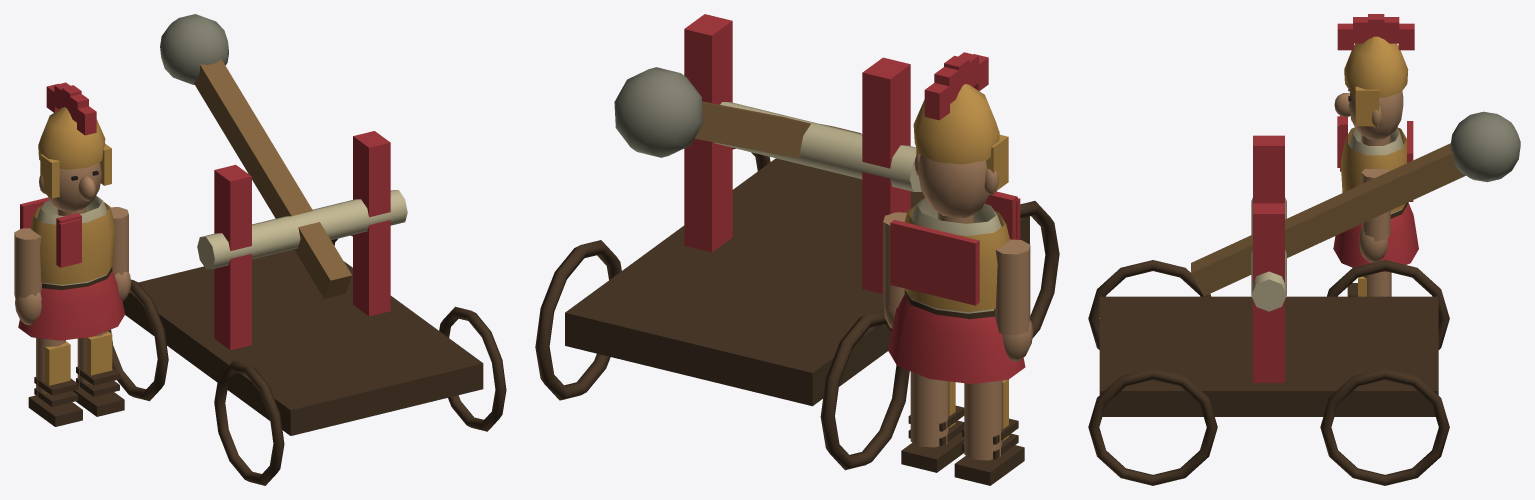
Rendered from bronze_catapult_team1.glb.
3 views of the same model, side by side, from view 1: azimuth 30°, elevation 25°; view 2: azimuth 150°, elevation 25°; view 3: azimuth 270°, elevation 25° (orthographic). The views are drawn at different scales.
Parts seen in each view (by area): view 1: part_11, part_10, part_8, part_1, part_9, part_0, part_2, part_4, part_6, part_3, part_5, part_7; view 2: part_11, part_8, part_10, part_0, part_1, part_4, part_6, part_2, part_9, part_3; view 3: part_11, part_10, part_8, part_0, part_1, part_9, part_3, part_6.
Boxes of the visible parts, bbox=[...] form: part_11: bbox=[108, 131, 506, 485]; part_10: bbox=[160, 14, 351, 298]; part_8: bbox=[18, 195, 125, 340]; part_1: bbox=[38, 107, 111, 198]; part_9: bbox=[30, 202, 115, 284]; part_0: bbox=[39, 82, 101, 211]; part_2: bbox=[14, 228, 42, 325]; part_4: bbox=[28, 338, 82, 426]; part_6: bbox=[73, 331, 124, 416]; part_3: bbox=[110, 207, 131, 300]; part_5: bbox=[44, 341, 70, 394]; part_7: bbox=[86, 331, 112, 384]; part_11: bbox=[535, 14, 1059, 470]; part_8: bbox=[888, 191, 1025, 383]; part_10: bbox=[614, 67, 861, 158]; part_0: bbox=[914, 52, 998, 218]; part_1: bbox=[913, 84, 1008, 192]; part_4: bbox=[954, 380, 1024, 485]; part_6: bbox=[901, 371, 964, 472]; part_2: bbox=[994, 239, 1033, 361]; part_9: bbox=[904, 206, 1009, 312]; part_3: bbox=[883, 212, 906, 328]; part_11: bbox=[1088, 135, 1449, 485]; part_10: bbox=[1191, 111, 1520, 296]; part_8: bbox=[1333, 115, 1418, 271]; part_0: bbox=[1334, 14, 1414, 139]; part_1: bbox=[1344, 36, 1408, 126]; part_9: bbox=[1340, 127, 1406, 212]; part_3: bbox=[1359, 168, 1390, 262]; part_6: bbox=[1363, 272, 1391, 296].
Bounding box in the file's own units: 2.27 × 2.03 × 2.42.
